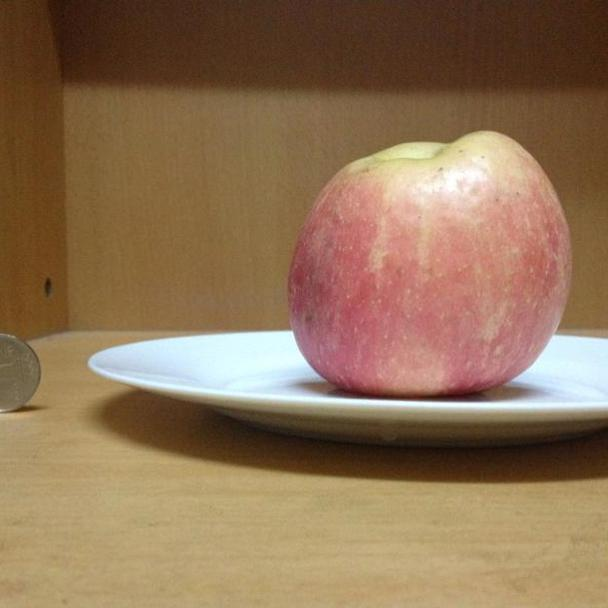apple: (287, 131, 573, 399)
